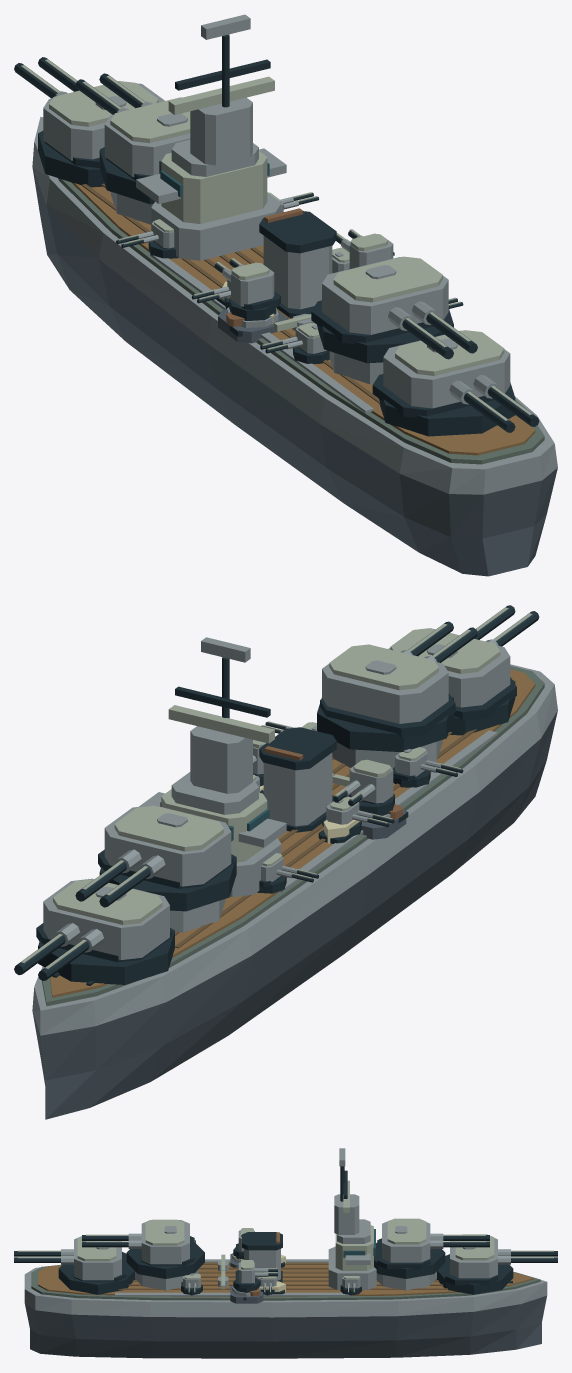
The model's file is historic-tirpitz.glb.
3 renders of one model, top to bottom at view 1: azimuth 30°, elevation 25°; view 2: azimuth 150°, elevation 25°; view 3: azimuth 270°, elevation 25°, orthographic. The views are drawn at different scales.
Visible parts, largest first — view 1: historic-tirpitz-historic-tirpitz-geometry, historic-tirpitz-part_bridge.036-geometry, historic-tirpitz-turret_main_3.013-geometry, historic-tirpitz-turret_main_2.024-geometry, historic-tirpitz-turret_main_0.026-geometry, historic-tirpitz-turret_main_1.025-geometry, historic-tirpitz-historic_funnel_0.037-geometry, historic-tirpitz-turret_aa_aa-port.038-geometry, historic-tirpitz-turret_secondary_2.006-geometry, historic-tirpitz-turret_aa_aa-starboard.036-geometry, historic-tirpitz-turret_secondary_0.008-geometry, historic-tirpitz-part_aa-port.038-geometry; view 2: historic-tirpitz-historic-tirpitz-geometry, historic-tirpitz-part_bridge.036-geometry, historic-tirpitz-turret_main_2.024-geometry, historic-tirpitz-turret_main_0.026-geometry, historic-tirpitz-turret_main_1.025-geometry, historic-tirpitz-turret_main_3.013-geometry, historic-tirpitz-historic_funnel_0.037-geometry, historic-tirpitz-turret_aa_aa-port.038-geometry, historic-tirpitz-turret_secondary_2.006-geometry, historic-tirpitz-turret_secondary_0.008-geometry, historic-tirpitz-turret_secondary_1.008-geometry, historic-tirpitz-part_aa-port.038-geometry; view 3: historic-tirpitz-historic-tirpitz-geometry, historic-tirpitz-turret_main_2.024-geometry, historic-tirpitz-turret_main_1.025-geometry, historic-tirpitz-part_bridge.036-geometry, historic-tirpitz-turret_main_0.026-geometry, historic-tirpitz-turret_main_3.013-geometry, historic-tirpitz-historic_funnel_0.037-geometry, historic-tirpitz-turret_aa_aa-starboard.036-geometry, historic-tirpitz-turret_secondary_5.006-geometry, historic-tirpitz-part_aa-starboard.036-geometry, historic-tirpitz-turret_secondary_3.006-geometry, historic-tirpitz-turret_secondary_4.006-geometry.
Part boxes in pixels (left/top/right/bottom): historic-tirpitz-historic-tirpitz-geometry: left=32, top=116, right=557, bottom=576; historic-tirpitz-part_bridge.036-geometry: left=136, top=14, right=286, bottom=260; historic-tirpitz-turret_main_3.013-geometry: left=372, top=330, right=539, bottom=436; historic-tirpitz-turret_main_2.024-geometry: left=311, top=256, right=477, bottom=363; historic-tirpitz-turret_main_0.026-geometry: left=14, top=57, right=164, bottom=187; historic-tirpitz-turret_main_1.025-geometry: left=75, top=73, right=190, bottom=204; historic-tirpitz-historic_funnel_0.037-geometry: left=259, top=208, right=336, bottom=318; historic-tirpitz-turret_aa_aa-port.038-geometry: left=214, top=258, right=280, bottom=320; historic-tirpitz-turret_secondary_2.006-geometry: left=260, top=323, right=329, bottom=364; historic-tirpitz-turret_aa_aa-starboard.036-geometry: left=336, top=229, right=393, bottom=269; historic-tirpitz-turret_secondary_0.008-geometry: left=116, top=219, right=177, bottom=258; historic-tirpitz-part_aa-port.038-geometry: left=218, top=307, right=287, bottom=343; historic-tirpitz-historic-tirpitz-geometry: left=32, top=664, right=557, bottom=1119; historic-tirpitz-part_bridge.036-geometry: left=139, top=637, right=286, bottom=897; historic-tirpitz-turret_main_2.024-geometry: left=317, top=621, right=477, bottom=752; historic-tirpitz-turret_main_0.026-geometry: left=14, top=878, right=174, bottom=984; historic-tirpitz-turret_main_1.025-geometry: left=75, top=805, right=236, bottom=911; historic-tirpitz-turret_main_3.013-geometry: left=388, top=605, right=539, bottom=735; historic-tirpitz-historic_funnel_0.037-geometry: left=259, top=727, right=336, bottom=832; historic-tirpitz-turret_aa_aa-port.038-geometry: left=333, top=759, right=394, bottom=815; historic-tirpitz-turret_secondary_2.006-geometry: left=392, top=747, right=463, bottom=787; historic-tirpitz-turret_secondary_0.008-geometry: left=257, top=853, right=318, bottom=893; historic-tirpitz-turret_secondary_1.008-geometry: left=322, top=796, right=394, bottom=835; historic-tirpitz-part_aa-port.038-geometry: left=361, top=803, right=406, bottom=839; historic-tirpitz-historic-tirpitz-geometry: left=24, top=1254, right=547, bottom=1358; historic-tirpitz-turret_main_2.024-geometry: left=82, top=1219, right=204, bottom=1278; historic-tirpitz-turret_main_1.025-geometry: left=374, top=1218, right=489, bottom=1278; historic-tirpitz-part_bridge.036-geometry: left=328, top=1148, right=376, bottom=1289; historic-tirpitz-turret_main_0.026-geometry: left=436, top=1234, right=557, bottom=1294; historic-tirpitz-turret_main_3.013-geometry: left=14, top=1236, right=135, bottom=1294; historic-tirpitz-historic_funnel_0.037-geometry: left=235, top=1232, right=282, bottom=1282; historic-tirpitz-turret_aa_aa-starboard.036-geometry: left=233, top=1260, right=277, bottom=1292; historic-tirpitz-turret_secondary_5.006-geometry: left=181, top=1273, right=202, bottom=1295; historic-tirpitz-part_aa-starboard.036-geometry: left=230, top=1285, right=263, bottom=1303; historic-tirpitz-turret_secondary_3.006-geometry: left=340, top=1276, right=362, bottom=1295; historic-tirpitz-turret_secondary_4.006-geometry: left=258, top=1276, right=276, bottom=1295.
Size of the model in its own units: 1.15 by 1.92 by 4.99.
